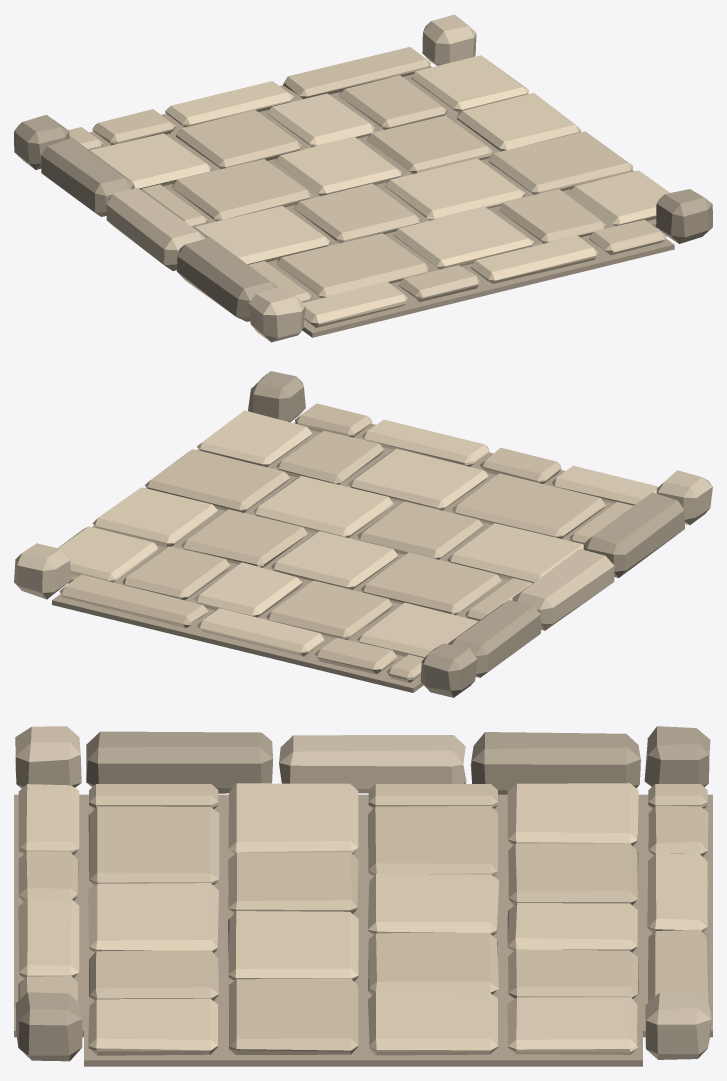
File: path_junction_t.glb
The picture shows the model from 3 angles, top to bottom: view 1: azimuth 30°, elevation 25°; view 2: azimuth 150°, elevation 25°; view 3: azimuth 270°, elevation 25°; orthographic projection. The views are drawn at different scales.
Parts seen in each view (by area): view 1: path_junction_t; view 2: path_junction_t; view 3: path_junction_t.
Boxes of the visible parts, x1,y1,x2,y2 form: path_junction_t: (14, 14, 712, 342); path_junction_t: (14, 371, 712, 697); path_junction_t: (14, 726, 712, 1066).
Size of the model in its own units: 2 by 0.1712 by 2.
